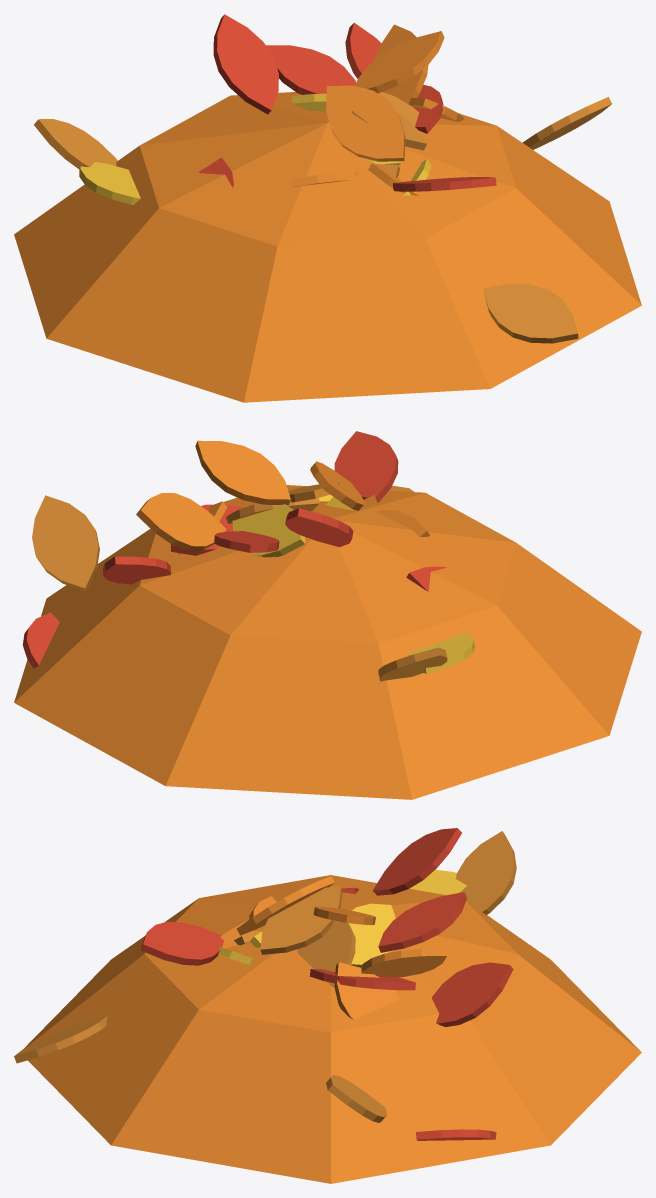
Rendered from LeafPile.fbx.
The picture shows the model from 3 angles, top to bottom: view 1: azimuth 30°, elevation 25°; view 2: azimuth 150°, elevation 25°; view 3: azimuth 270°, elevation 25°; orthographic projection. The views are drawn at different scales.
Visible parts, largest first — view 1: LeafPile; view 2: LeafPile; view 3: LeafPile.
Part boxes in pixels (left/top/right/bottom): LeafPile: left=14, top=14, right=641, bottom=402; LeafPile: left=14, top=431, right=641, bottom=799; LeafPile: left=14, top=828, right=641, bottom=1183.
Bounding box in the file's own units: 4.01 × 1.52 × 4.04.
Materials: 1 (1 with a texture image).
